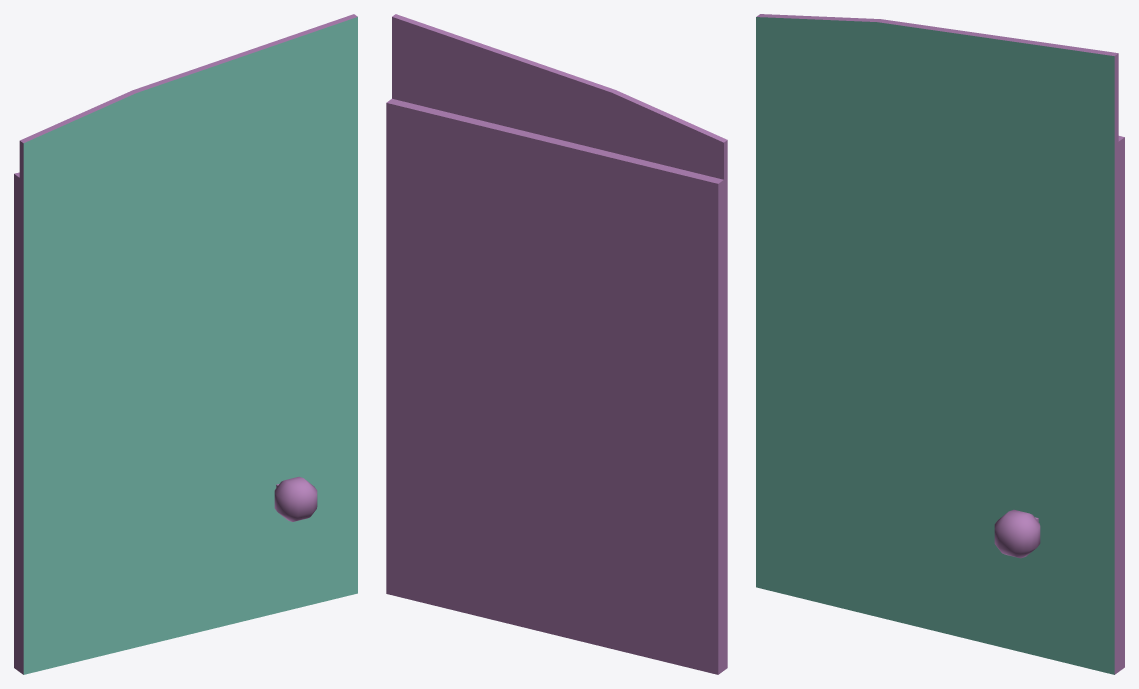
The model's file is SalleDeBainPorteMiroire.fbx.
The picture shows the model from 3 angles, left to right: view 1: azimuth 30°, elevation 25°; view 2: azimuth 150°, elevation 25°; view 3: azimuth 330°, elevation 25°; orthographic projection. The views are drawn at different scales.
Parts seen in each view (by area): view 1: SalleDeBainPorteMiroire; view 2: SalleDeBainPorteMiroire; view 3: SalleDeBainPorteMiroire.
Part boxes in pixels (<box>): SalleDeBainPorteMiroire: <box>14,14,357,674</box>; SalleDeBainPorteMiroire: <box>386,14,727,674</box>; SalleDeBainPorteMiroire: <box>756,14,1124,674</box>.
Bounding box in the file's own units: 42.46 × 70.01 × 7.4.
